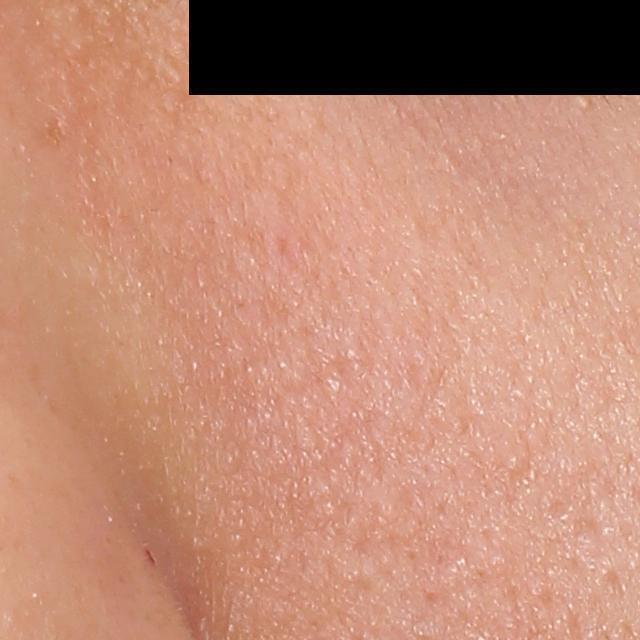other: (576, 93, 592, 113)
